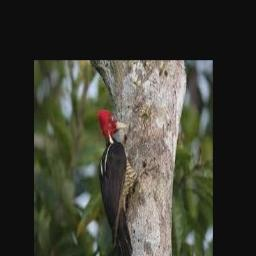Woodpecker: (97, 108, 157, 256)
